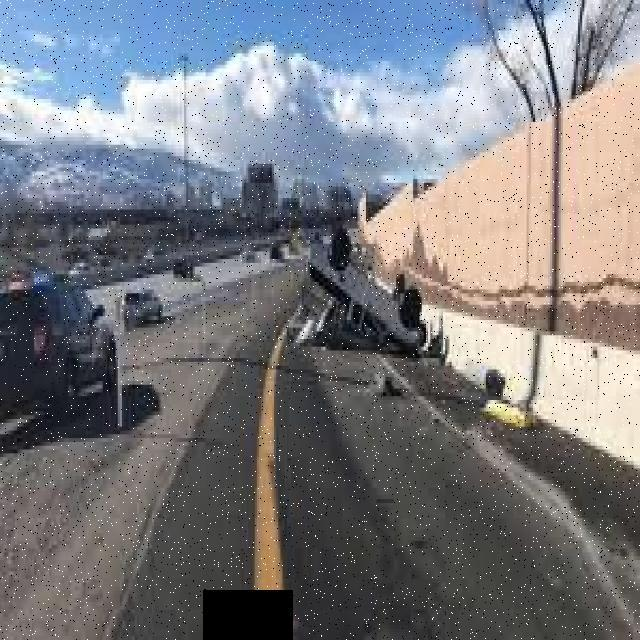severe: (298, 217, 428, 362)
